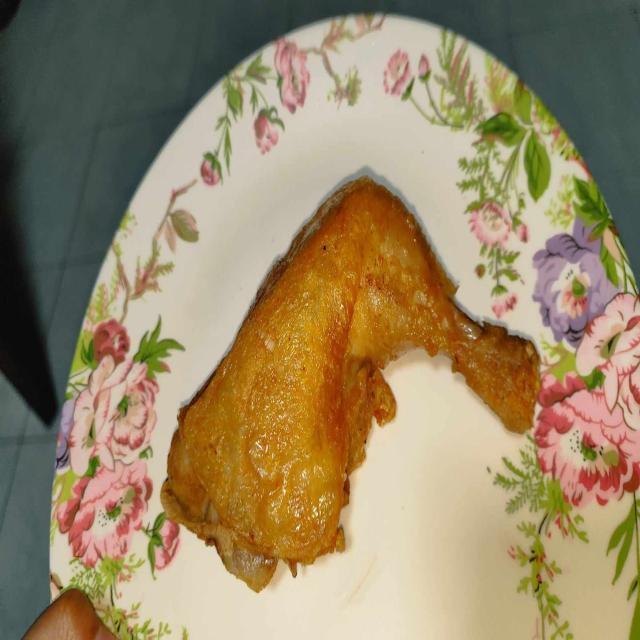Chicken -Fried Chicken-: (150, 172, 542, 593)
